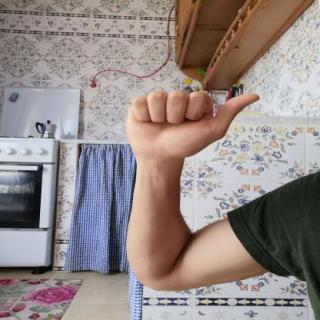DAD: (115, 83, 268, 169)
